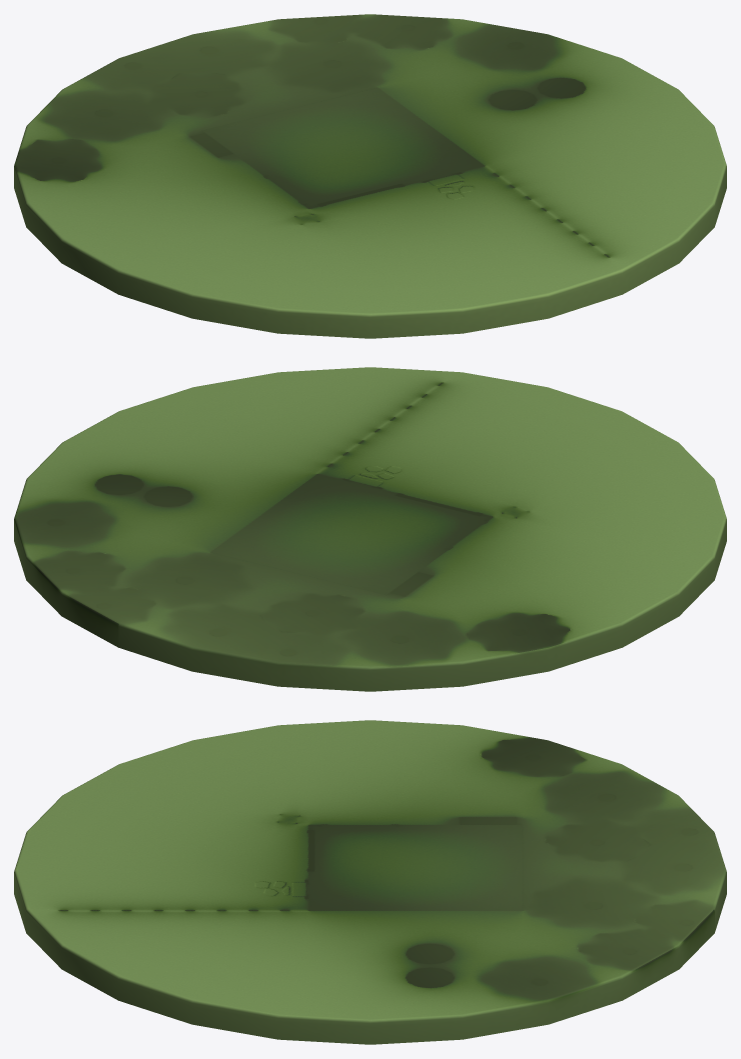
File: house_moc2_recieve_ShadowBase.glb
3 renders of one model, top to bottom at view 1: azimuth 30°, elevation 25°; view 2: azimuth 150°, elevation 25°; view 3: azimuth 270°, elevation 25°, orthographic.
Parts seen in each view (by area): view 1: basebeta; view 2: basebeta; view 3: basebeta.
Boxes of the visible parts, <box> form: basebeta: <box>14,14,726,338</box>; basebeta: <box>14,367,726,691</box>; basebeta: <box>14,720,726,1044</box>.
Bounding box in the file's own units: 8.01 × 0.3005 × 8.01.
Materials: 1 (1 with a texture image).
